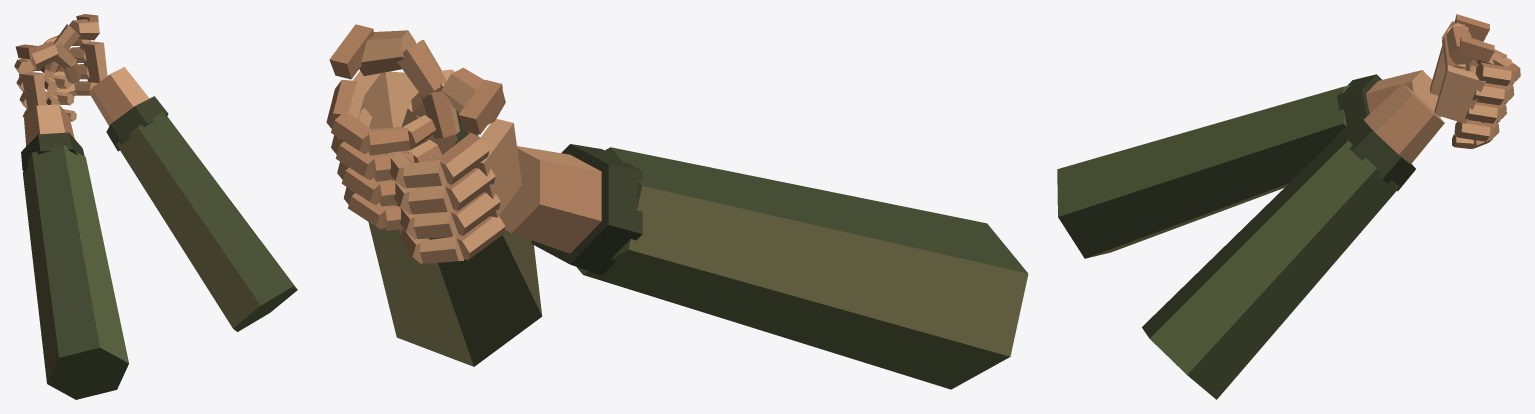
The model's file is maos_wf_m1911.glb.
The picture shows the model from 3 angles, left to right: view 1: azimuth 30°, elevation 25°; view 2: azimuth 150°, elevation 25°; view 3: azimuth 270°, elevation 25°; orthographic projection. The views are drawn at different scales.
Parts seen in each view (by area): view 1: MaosFP; view 2: MaosFP; view 3: MaosFP.
Boxes of the visible parts, x1=… form: MaosFP: x1=14, y1=14, x2=297, y2=399; MaosFP: x1=326, y1=24, x2=1028, y2=389; MaosFP: x1=1057, y1=14, x2=1520, y2=399.
Size of the model in its own units: 0.4271 by 0.3685 by 0.4793.
